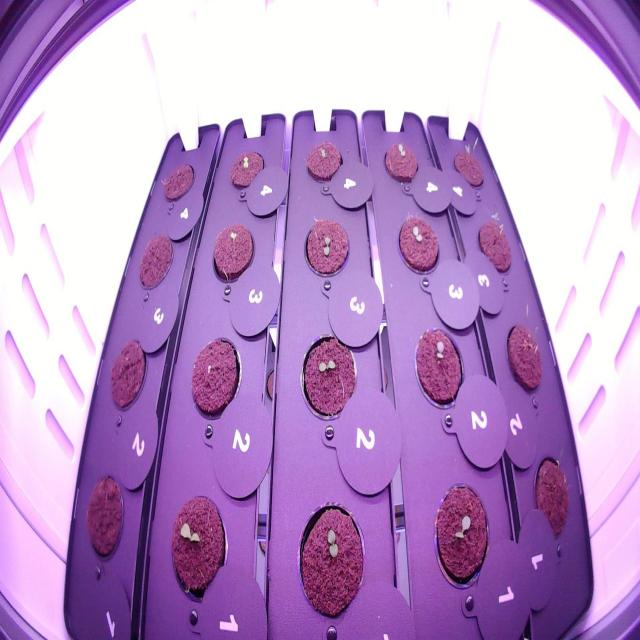germination: (288, 490, 369, 626), (427, 477, 496, 604), (165, 486, 232, 614), (294, 320, 361, 426), (411, 312, 468, 418), (503, 296, 549, 407), (296, 210, 354, 282), (391, 208, 444, 282), (206, 215, 257, 289), (474, 205, 517, 286), (446, 130, 489, 200), (379, 133, 424, 195), (300, 130, 346, 189), (224, 144, 268, 195)
pod: (528, 433, 579, 552), (186, 330, 244, 428), (80, 466, 128, 570), (107, 331, 150, 422), (134, 229, 177, 296), (157, 158, 197, 209)
